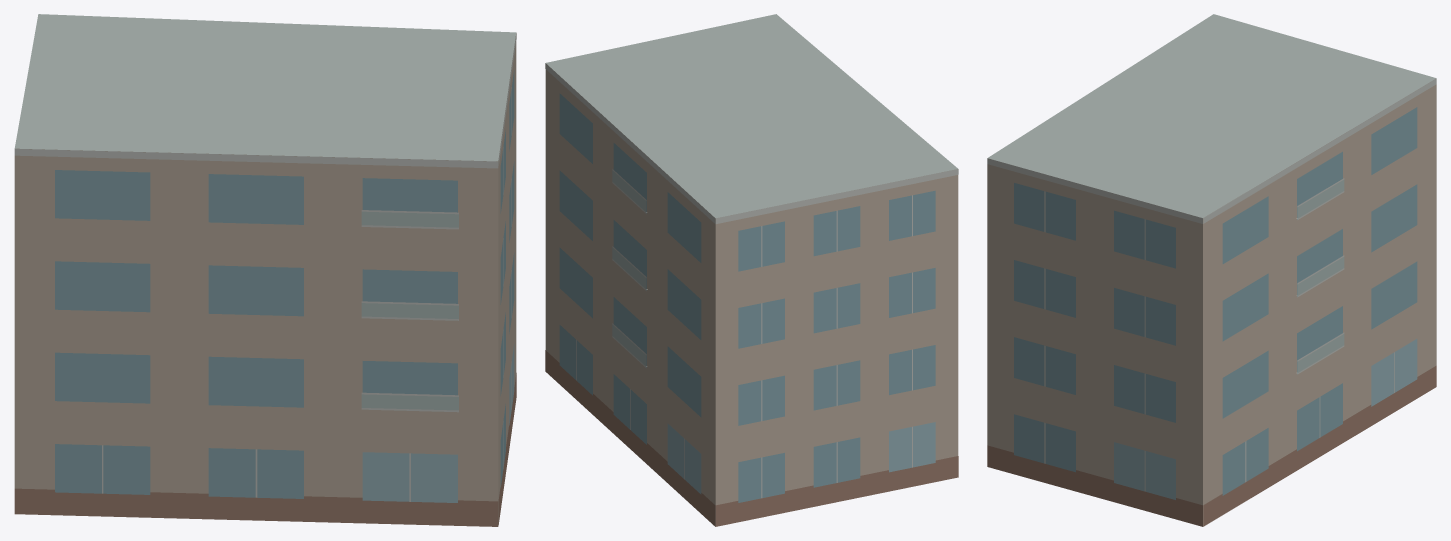
Rendered from survey-upis-32776628.glb.
3 renders of one model, left to right at view 1: azimuth 30°, elevation 25°; view 2: azimuth 150°, elevation 25°; view 3: azimuth 270°, elevation 25°, orthographic. The views are drawn at different scales.
Visible parts, largest first — view 1: survey-upis-32776628.tmp; view 2: survey-upis-32776628.tmp; view 3: survey-upis-32776628.tmp.
Part boxes in pixels (x1=…): survey-upis-32776628.tmp: x1=14, y1=14, x2=516, y2=526; survey-upis-32776628.tmp: x1=545, y1=14, x2=958, y2=526; survey-upis-32776628.tmp: x1=987, y1=14, x2=1436, y2=526.
Bounding box in the file's own units: 18.03 × 12.7 × 16.77.
